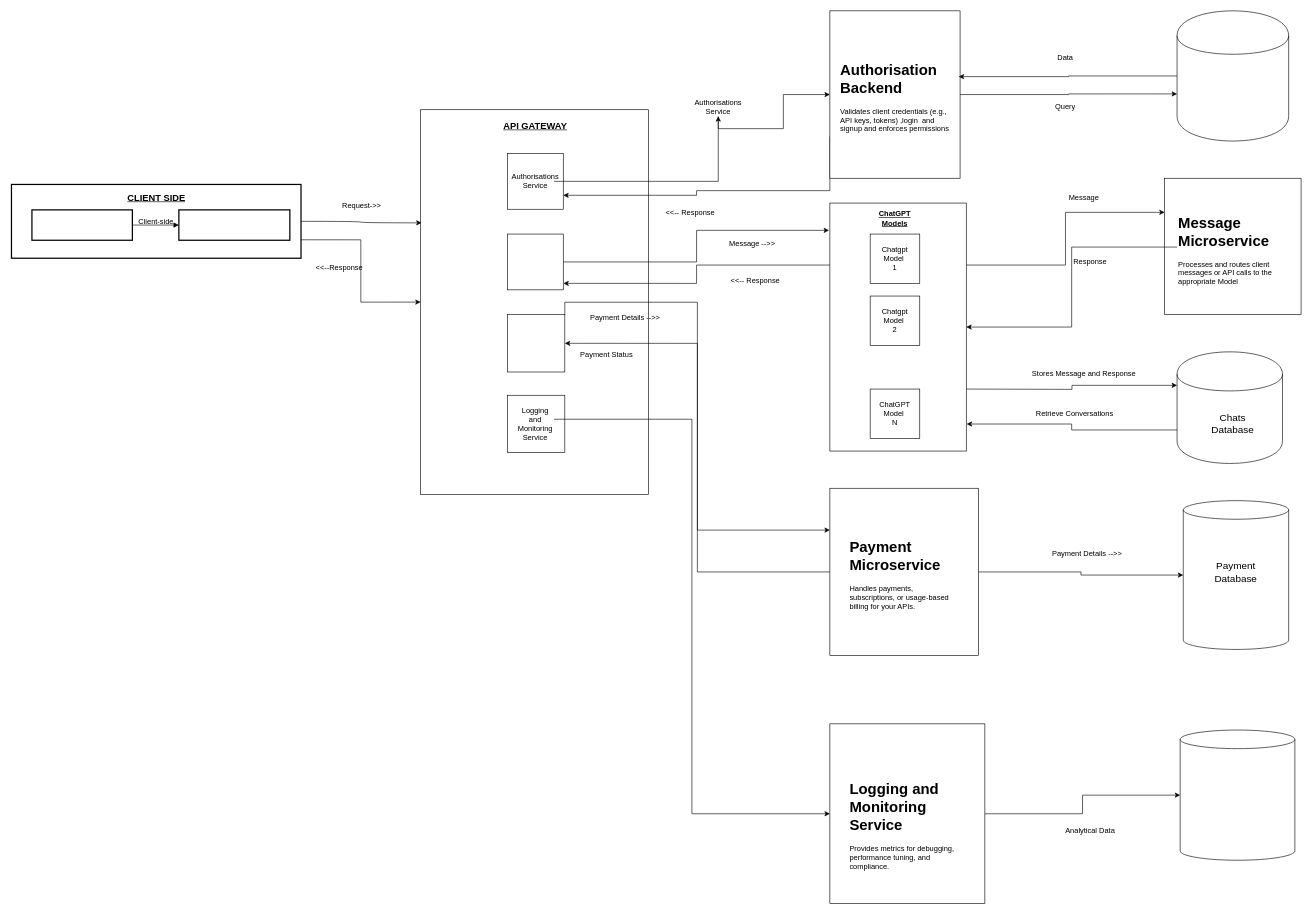
Image size: 1312x915. Some labels were removed from this diagram. The centre of each missing label's shape, as x and y in pixels:
"Analytical Database" belongs at (x=1237, y=794).
"Client-side Logic" belongs at (x=234, y=225).
"Message Service" belongs at (x=535, y=261).
"Payment Service" belongs at (x=536, y=343).
"User Interface" belongs at (x=82, y=225).
"Users Database" belongs at (x=1232, y=75).
